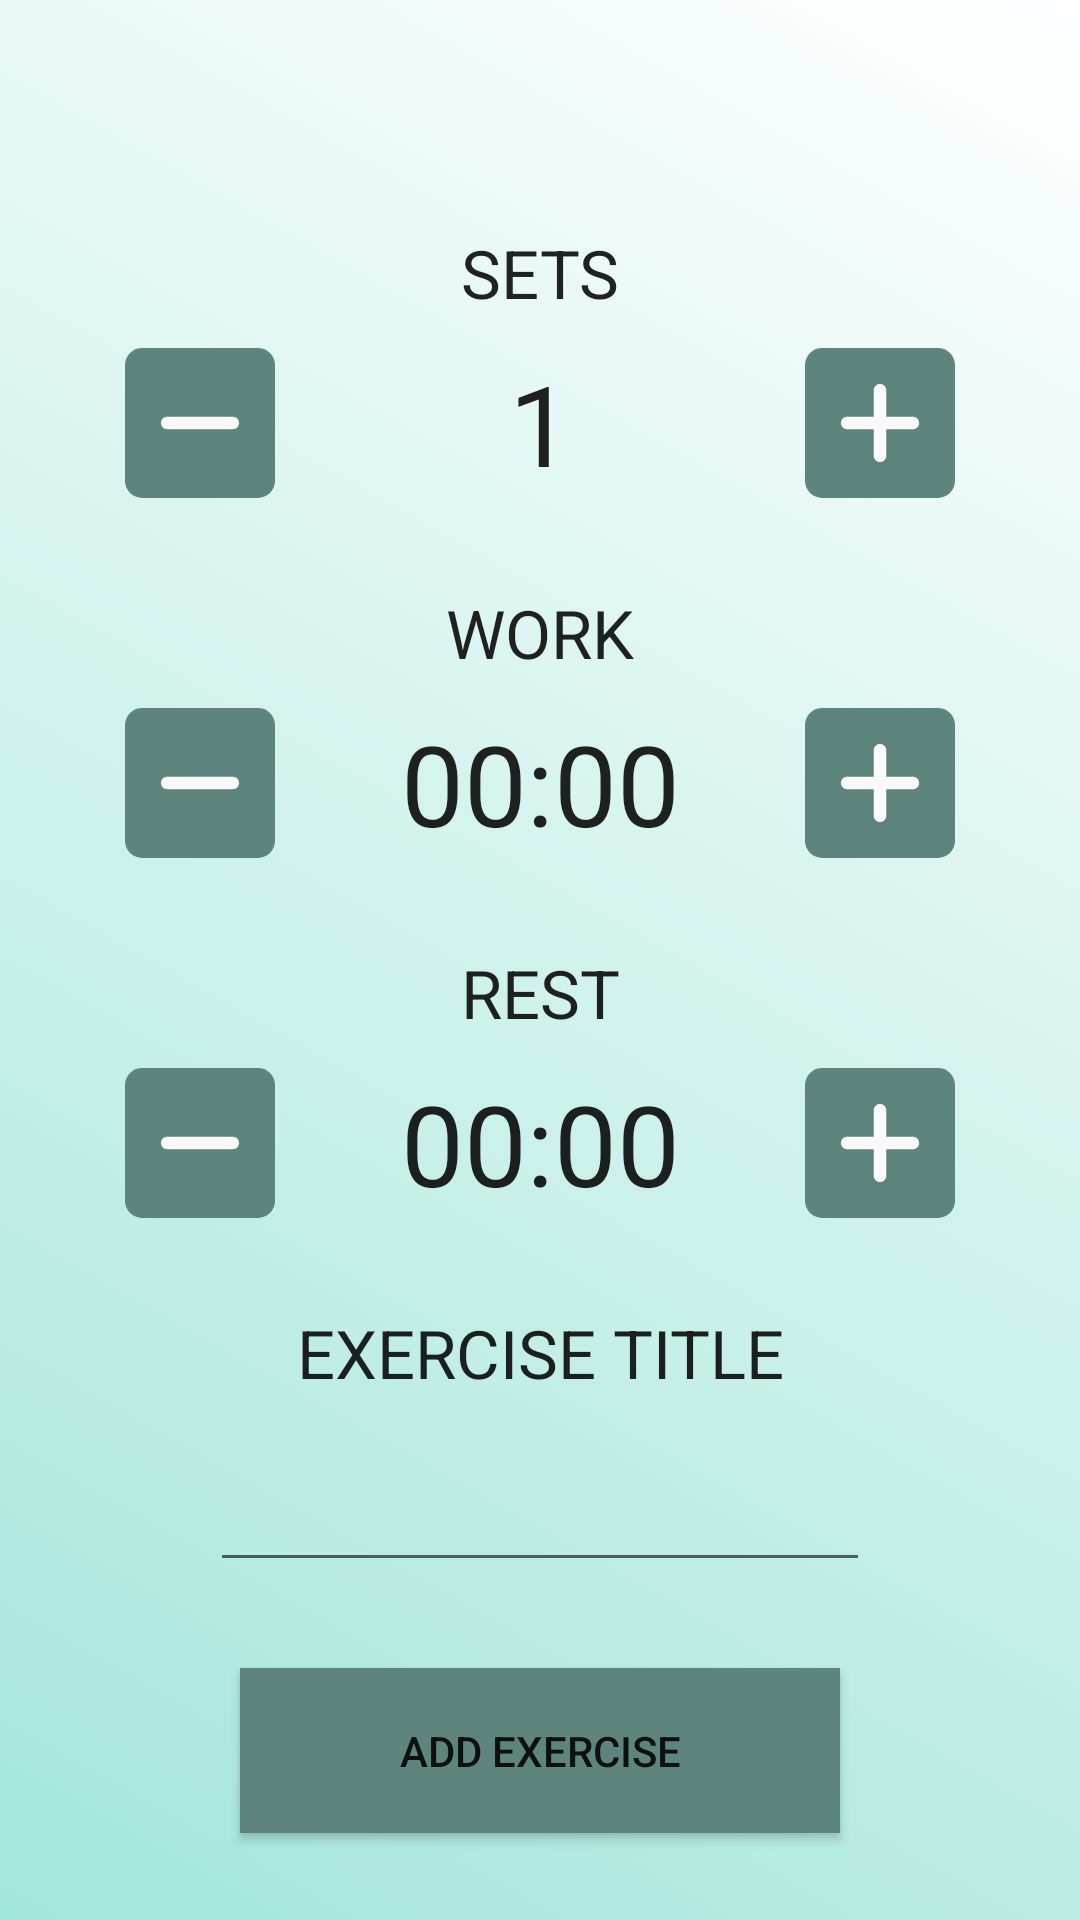

Point at icon controls on the screen. Image size 1080w x 1920h, points as (x=x, y=y).
add: (x=880, y=423), (x=880, y=783), (x=880, y=1143)
minus: (x=200, y=423), (x=200, y=783), (x=200, y=1143)
